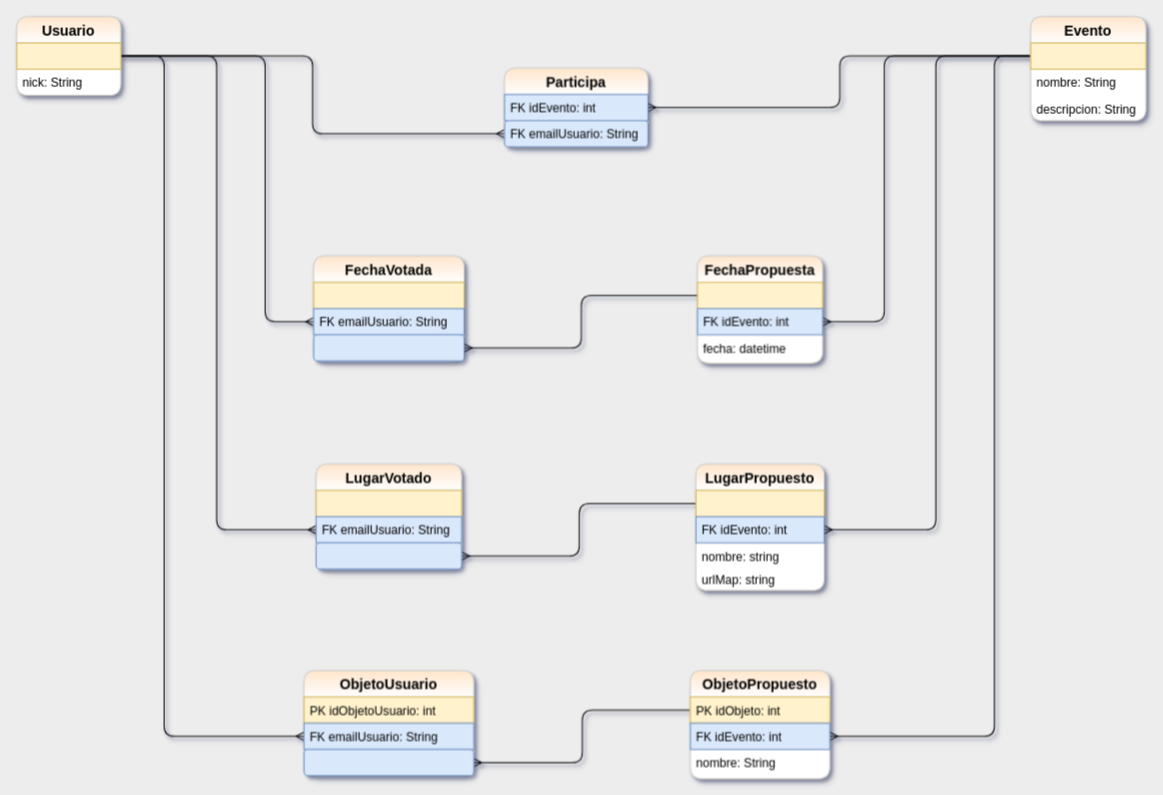
Some shapes in this 1163 by 795 pixel diagram are drawn without their labels. The centre of each missing label's shape, as x and y in pixels:
FK idFechaPropuesta: int: the point at 388,347
FK idLugarPropuesto: int: the point at 388,555
FK idObjetoPropuesto: String: the point at 388,762
PK email: String: the point at 68,55
PK id: int: the point at 1088,55
PK idFecha: int: the point at 759,295
PK idFechaVotada: int: the point at 388,295
PK idLugar: int: the point at 759,503
PK idLugarVotado: int: the point at 388,503
